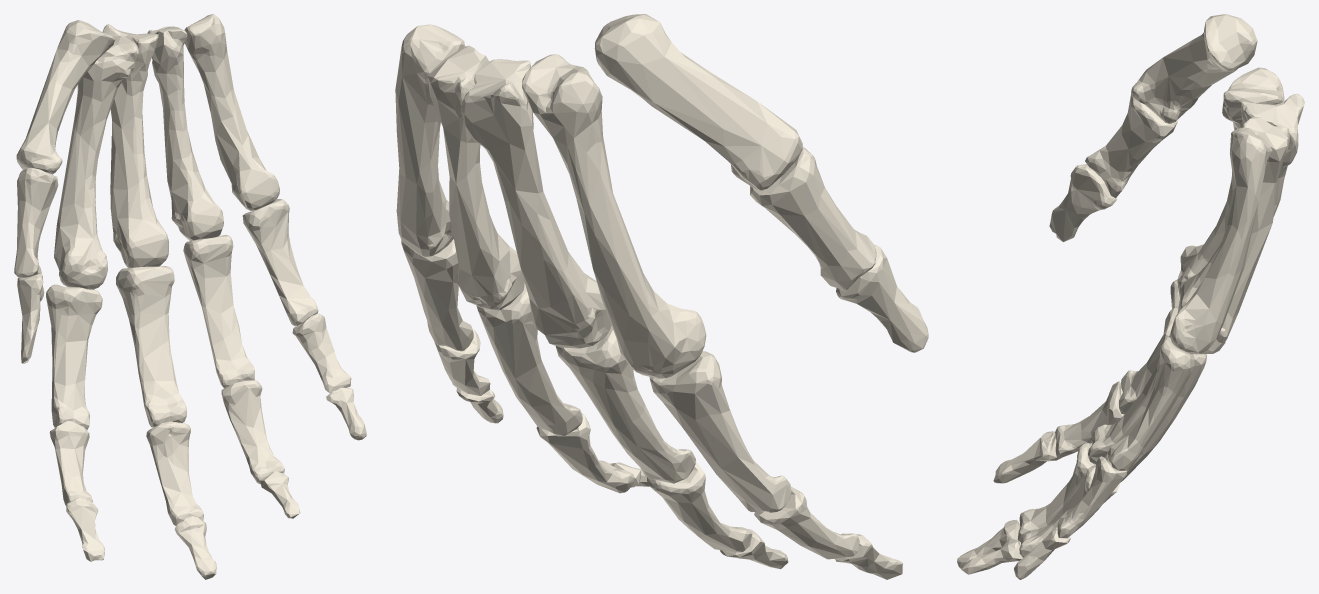
The model's file is hand-bone.glb.
3 renders of one model, left to right at view 1: azimuth 30°, elevation 25°; view 2: azimuth 150°, elevation 25°; view 3: azimuth 270°, elevation 25°, orthographic. The views are drawn at different scales.
Parts seen in each view (by area): view 1: metacarpal-2__BP8219, metacarpal-3__BP8629, metacarpal-5__BP8925, metacarpal-4__BP8444, proximal-phalanx-3__BP9025, metacarpal-1__BP8547, proximal-phalanx-2__BP8914, proximal-phalanx-4__BP8330, proximal-phalanx-5__BP8100, middle-phalanx-3__BP9150, middle-phalanx-4__BP8451, proximal-phalanx-1__BP8017 (+7 smaller); view 2: metacarpal-2__BP8219, metacarpal-3__BP8629, metacarpal-1__BP8547, metacarpal-4__BP8444, metacarpal-5__BP8925, proximal-phalanx-2__BP8914, proximal-phalanx-3__BP9025, proximal-phalanx-1__BP8017, proximal-phalanx-4__BP8330, proximal-phalanx-5__BP8100, distal-phalanx-1__BP8436, middle-phalanx-3__BP9150 (+6 smaller); view 3: metacarpal-5__BP8925, metacarpal-1__BP8547, metacarpal-4__BP8444, proximal-phalanx-1__BP8017, proximal-phalanx-5__BP8100, metacarpal-2__BP8219, metacarpal-3__BP8629, distal-phalanx-1__BP8436, proximal-phalanx-3__BP9025, middle-phalanx-5__BP8491, middle-phalanx-2__BP8523, middle-phalanx-3__BP9150 (+7 smaller).
Boxes of the visible parts, left/top/right/bottom form: metacarpal-2__BP8219: left=54, top=36, right=138, bottom=289; metacarpal-3__BP8629: left=102, top=24, right=168, bottom=267; metacarpal-5__BP8925: left=184, top=14, right=279, bottom=210; metacarpal-4__BP8444: left=147, top=26, right=223, bottom=240; proximal-phalanx-3__BP9025: left=116, top=266, right=186, bottom=427; metacarpal-1__BP8547: left=16, top=20, right=115, bottom=174; proximal-phalanx-2__BP8914: left=46, top=284, right=102, bottom=429; proximal-phalanx-4__BP8330: left=183, top=235, right=254, bottom=388; proximal-phalanx-5__BP8100: left=242, top=199, right=318, bottom=325; middle-phalanx-3__BP9150: left=146, top=421, right=203, bottom=525; middle-phalanx-4__BP8451: left=221, top=380, right=284, bottom=484; proximal-phalanx-1__BP8017: left=14, top=167, right=58, bottom=277; metacarpal-2__BP8219: left=522, top=54, right=706, bottom=378; metacarpal-3__BP8629: left=461, top=59, right=611, bottom=348; metacarpal-1__BP8547: left=594, top=14, right=802, bottom=190; metacarpal-4__BP8444: left=427, top=45, right=524, bottom=310; metacarpal-5__BP8925: left=395, top=24, right=464, bottom=257; proximal-phalanx-2__BP8914: left=649, top=351, right=791, bottom=512; proximal-phalanx-3__BP9025: left=555, top=326, right=695, bottom=483; proximal-phalanx-1__BP8017: left=750, top=147, right=876, bottom=290; proximal-phalanx-4__BP8330: left=476, top=283, right=582, bottom=435; proximal-phalanx-5__BP8100: left=401, top=239, right=473, bottom=351; distal-phalanx-1__BP8436: left=836, top=245, right=928, bottom=352; middle-phalanx-3__BP9150: left=647, top=462, right=752, bottom=552; metacarpal-5__BP8925: left=1170, top=127, right=1272, bottom=354; metacarpal-1__BP8547: left=1131, top=14, right=1257, bottom=123; metacarpal-4__BP8444: left=1195, top=116, right=1289, bottom=354; proximal-phalanx-1__BP8017: left=1085, top=94, right=1177, bottom=198; proximal-phalanx-5__BP8100: left=1107, top=337, right=1194, bottom=470; metacarpal-2__BP8219: left=1177, top=67, right=1284, bottom=297; metacarpal-3__BP8629: left=1177, top=93, right=1304, bottom=313; distal-phalanx-1__BP8436: left=1049, top=164, right=1117, bottom=241; proximal-phalanx-3__BP9025: left=1088, top=308, right=1178, bottom=464; middle-phalanx-5__BP8491: left=1057, top=456, right=1126, bottom=538; middle-phalanx-2__BP8523: left=1055, top=381, right=1124, bottom=458; middle-phalanx-3__BP9150: left=1017, top=442, right=1095, bottom=541.
Bounding box in the file's own units: 1.05 × 1.44 × 0.831.
